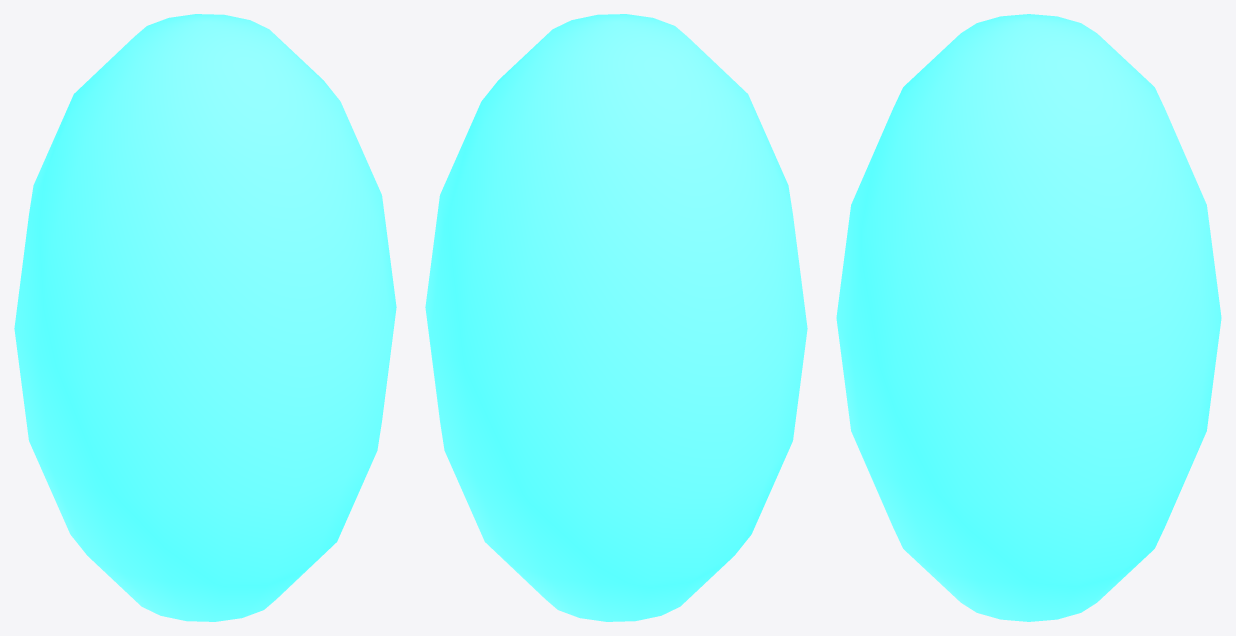
The model's file is bolt.glb.
3 renders of one model, left to right at view 1: azimuth 30°, elevation 25°; view 2: azimuth 150°, elevation 25°; view 3: azimuth 270°, elevation 25°, orthographic.
Visible parts, largest first — view 1: Projectile core; view 2: Projectile core; view 3: Projectile core.
Boxes of the visible parts, left/top/right/bottom form: Projectile core: left=14, top=14, right=396, bottom=621; Projectile core: left=425, top=14, right=807, bottom=621; Projectile core: left=836, top=14, right=1221, bottom=621.
Bounding box in the file's own units: 0.26 × 0.44 × 0.26.
